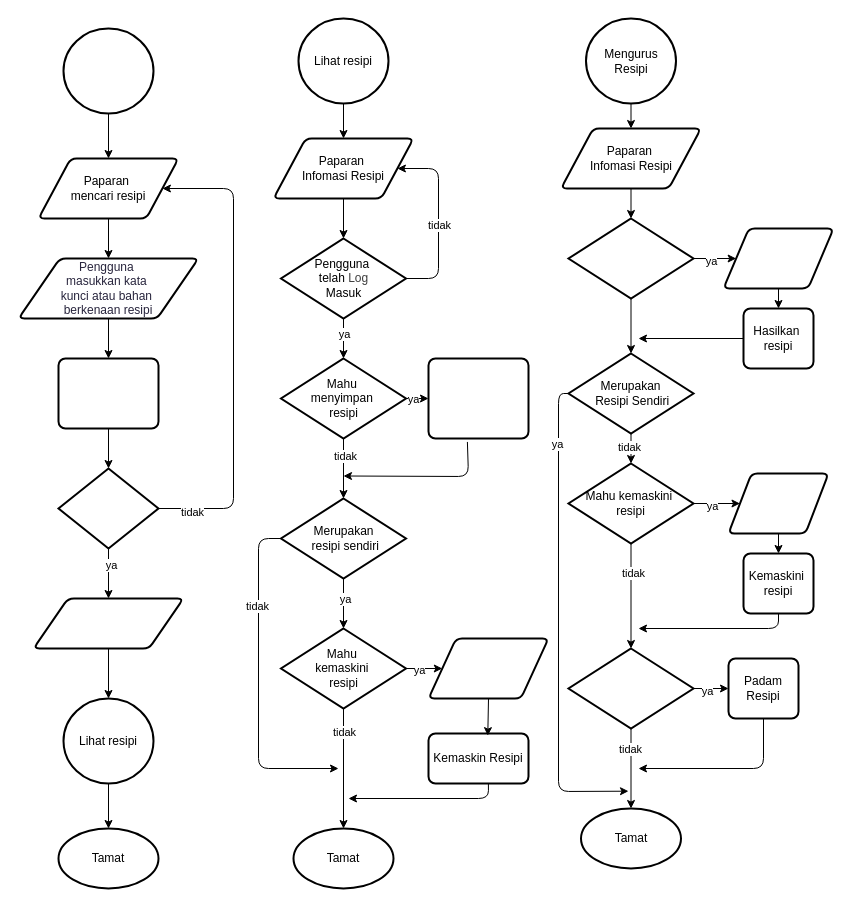
Some shapes in this 851 by 906 pixel diagram are drawn without their labels. Here are the shapes that lost their labels. From the top down, the centre of each, then its label:
At pixel 108 70: "Cari Resipi".
At pixel 630 258: "Mahu hasilkan resipi baru".
At pixel 778 258: "Pengguna masukkan infomasi resipi".
At pixel 108 393: "Mencari resipi sesuai dalam pangkalan data".
At pixel 478 398: "Tetapkan resipi dalam simpanan pengguna".
At pixel 108 508: "Menjumpai resipi yang sesuai".
At pixel 778 503: "Pengguna kemaskini resipi".
At pixel 108 623: "Papar senarai resipi yang sesuai".
At pixel 488 668: "Pengguna masukkan infomasi baru".
At pixel 630 688: "Mahu padam resipi".
